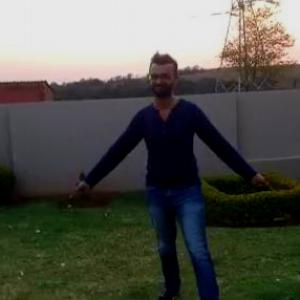land: (70, 52, 281, 296)
